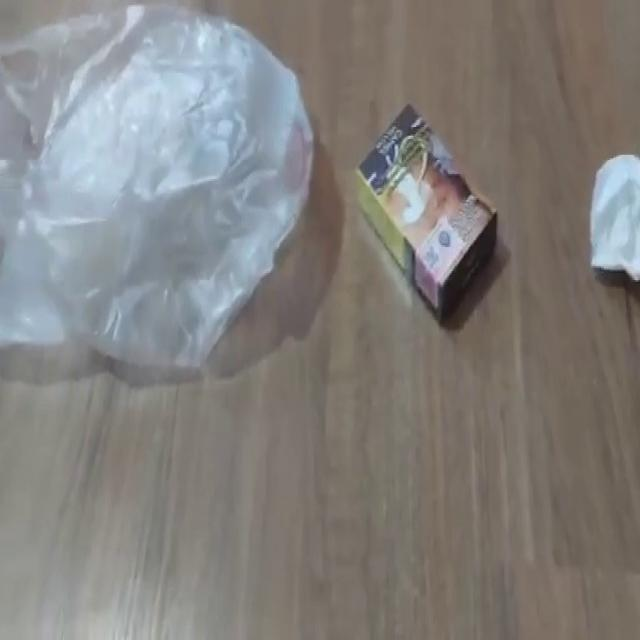Anorganik: (1, 2, 318, 377)
Organik: (352, 97, 500, 334), (586, 150, 640, 284)
